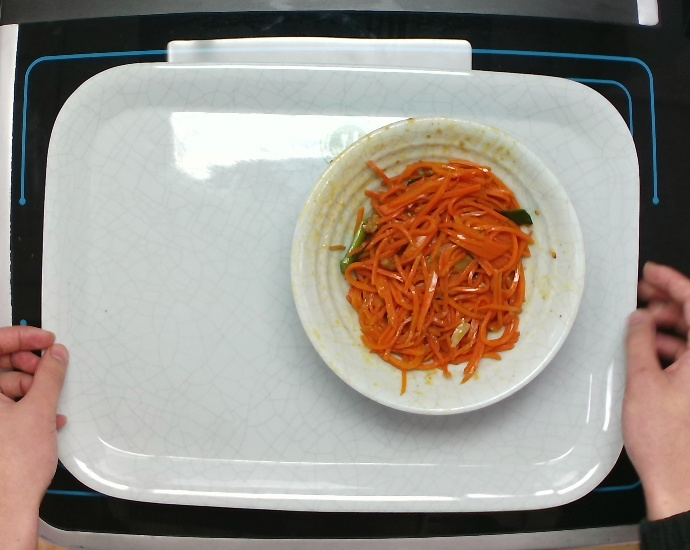JYsf-Xiao_Tang_Wan: (287, 117, 591, 420)
